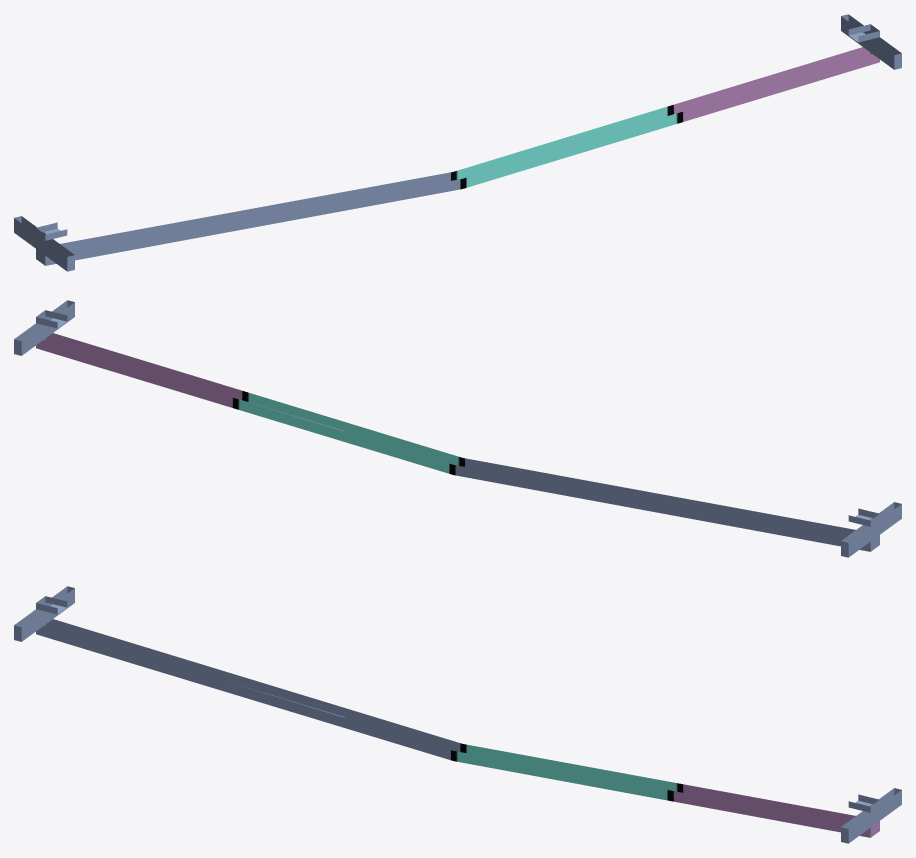
The model's file is CWR_RoofLightsSmaller.fbx.
The picture shows the model from 3 angles, top to bottom: view 1: azimuth 30°, elevation 25°; view 2: azimuth 150°, elevation 25°; view 3: azimuth 330°, elevation 25°; orthographic projection.
Parts seen in each view (by area): view 1: pasted__TrainStation_PlatformRoof6; view 2: pasted__TrainStation_PlatformRoof6; view 3: pasted__TrainStation_PlatformRoof6.
Part boxes in pixels (x1=…): pasted__TrainStation_PlatformRoof6: x1=14, y1=14, x2=901, y2=271; pasted__TrainStation_PlatformRoof6: x1=14, y1=300, x2=901, y2=557; pasted__TrainStation_PlatformRoof6: x1=14, y1=586, x2=901, y2=843.
Bounding box in the file's own units: 614 × 39.56 × 68.1.
